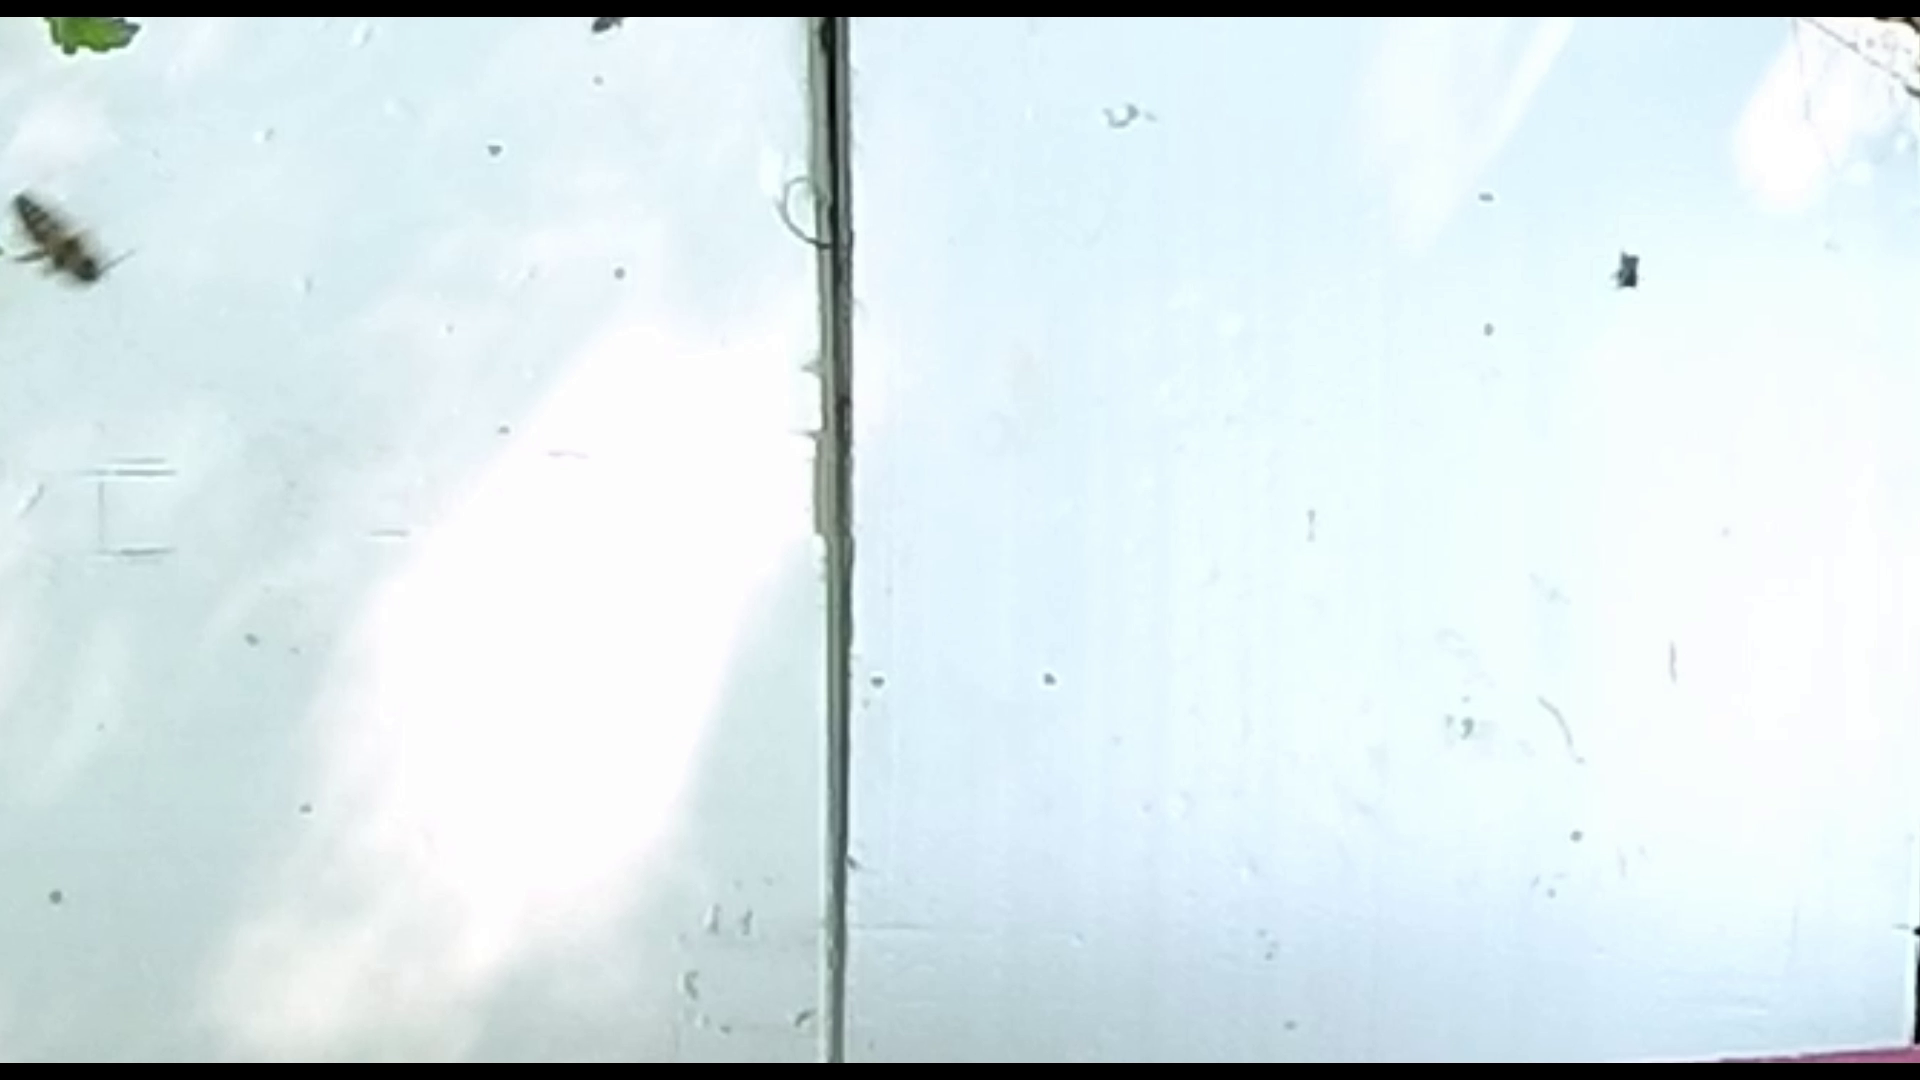Asian_hornets: (0, 170, 140, 314)
